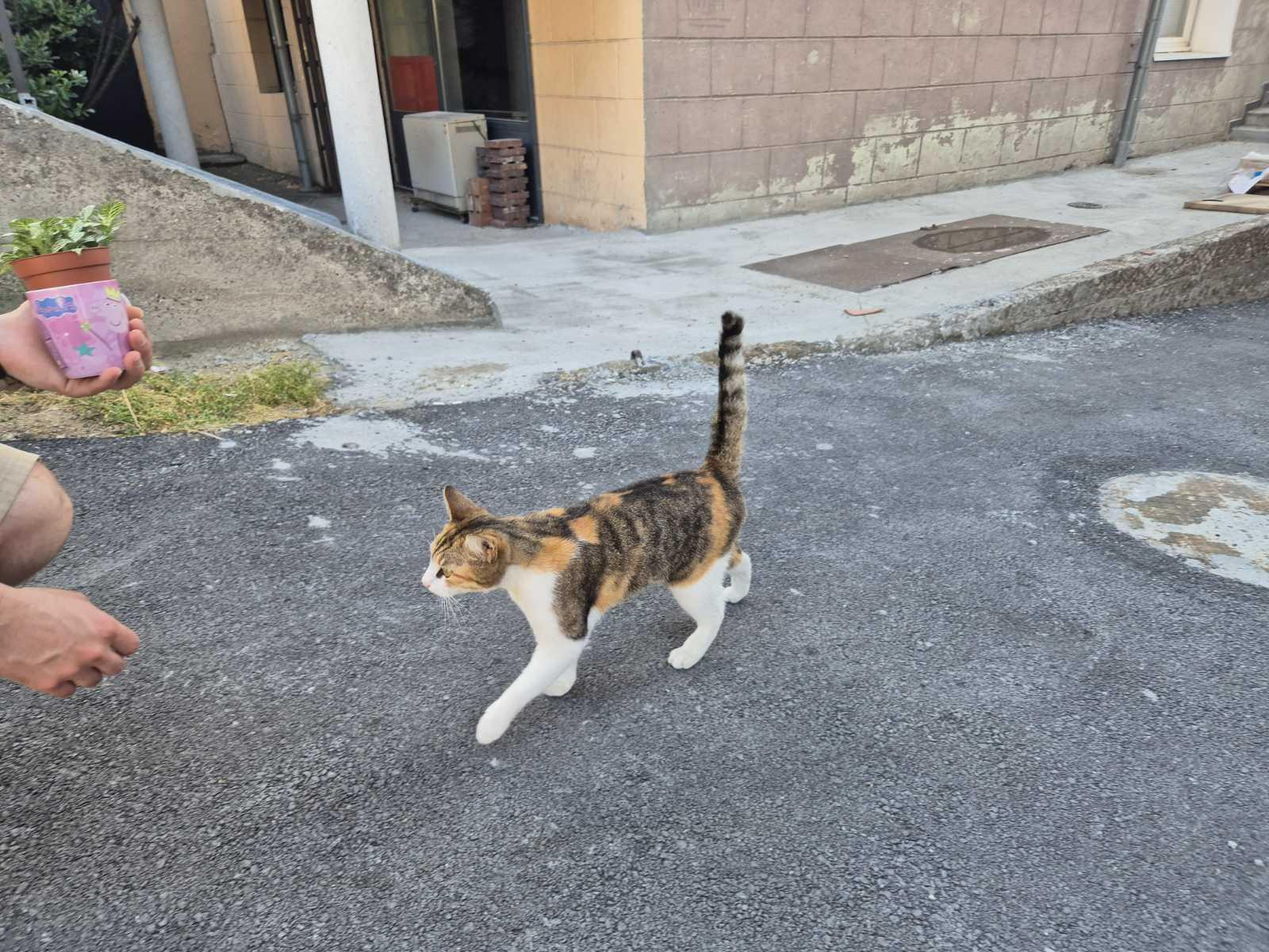macka: (423, 309, 755, 744)
